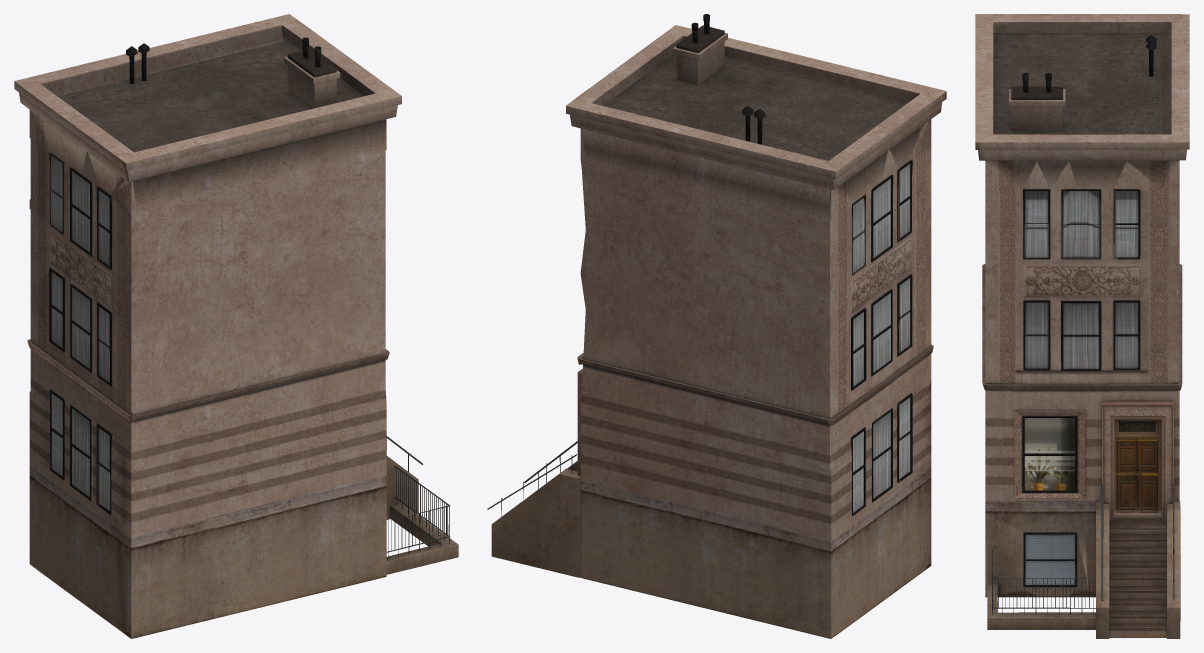
The model's file is building_04.fbx.
3 views of the same model, side by side, from view 1: azimuth 30°, elevation 25°; view 2: azimuth 150°, elevation 25°; view 3: azimuth 270°, elevation 25° (orthographic). The views are drawn at different scales.
Parts seen in each view (by area): view 1: New_York_City_Brownstone_Building3; view 2: New_York_City_Brownstone_Building3; view 3: New_York_City_Brownstone_Building3.
Boxes of the visible parts, x1=… form: New_York_City_Brownstone_Building3: x1=14, y1=14, x2=458, y2=638; New_York_City_Brownstone_Building3: x1=487, y1=14, x2=946, y2=638; New_York_City_Brownstone_Building3: x1=975, y1=14, x2=1189, y2=638.
Size of the model in its own units: 6.53 by 9.03 by 3.5.
